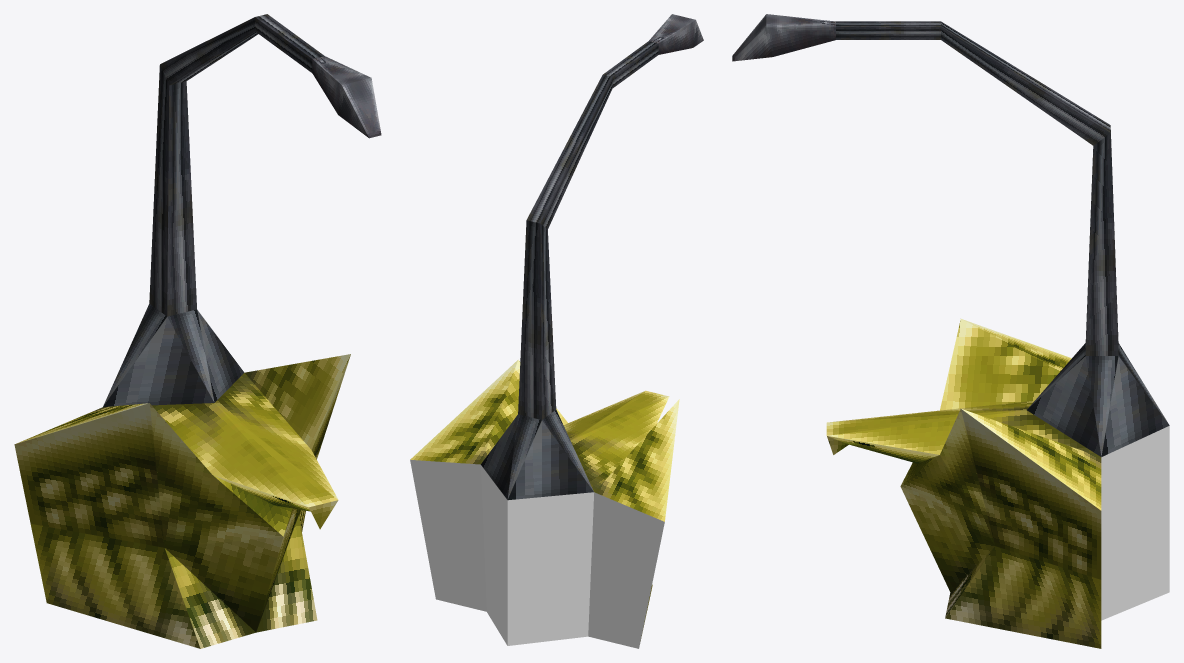
3 renders of one model, left to right at view 1: azimuth 30°, elevation 25°; view 2: azimuth 150°, elevation 25°; view 3: azimuth 270°, elevation 25°, orthographic. The views are drawn at different scales.
Visible parts, largest first — view 1: nprim148-Cylinder02.001; view 2: nprim148-Cylinder02.001; view 3: nprim148-Cylinder02.001.
Part boxes in pixels (x1=…): nprim148-Cylinder02.001: x1=14, y1=14, x2=381, y2=648; nprim148-Cylinder02.001: x1=410, y1=14, x2=703, y2=648; nprim148-Cylinder02.001: x1=732, y1=14, x2=1169, y2=648.
Bounding box in the file's own units: 256 × 480 × 333.
Materials: 4 (3 with a texture image).
